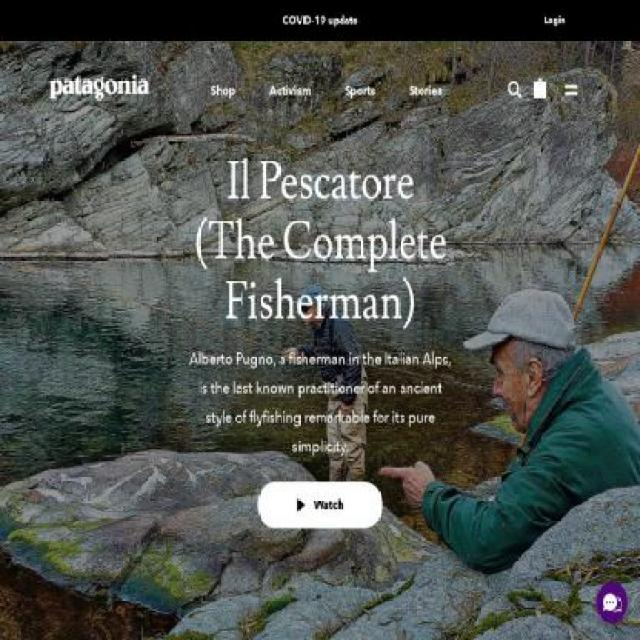button: (252, 40, 328, 140), (392, 40, 459, 140), (328, 40, 392, 140), (258, 481, 382, 528), (194, 40, 252, 140), (49, 74, 151, 106), (595, 582, 628, 623), (503, 73, 528, 107), (559, 73, 584, 107), (544, 0, 565, 40), (528, 73, 552, 107)
